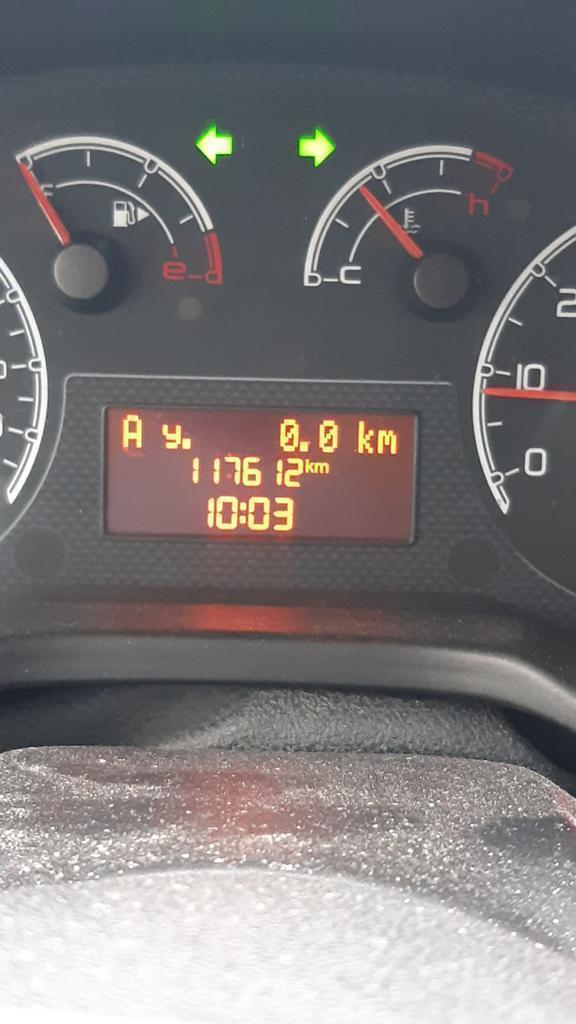,: (181, 436, 192, 451), (299, 440, 310, 453)
0: (316, 416, 340, 455), (247, 494, 270, 531), (215, 494, 238, 530), (278, 416, 299, 453)
1: (188, 454, 203, 487), (208, 455, 221, 486), (203, 496, 214, 529), (272, 457, 283, 487)
2: (284, 456, 304, 488)
3: (271, 496, 294, 532)
6: (241, 455, 263, 487)
7: (221, 454, 241, 486)
X: (120, 411, 144, 450), (354, 417, 376, 455), (376, 428, 399, 455), (159, 422, 181, 450), (314, 461, 330, 474), (304, 455, 314, 475), (239, 501, 246, 524)
odometer: (97, 399, 421, 547)
